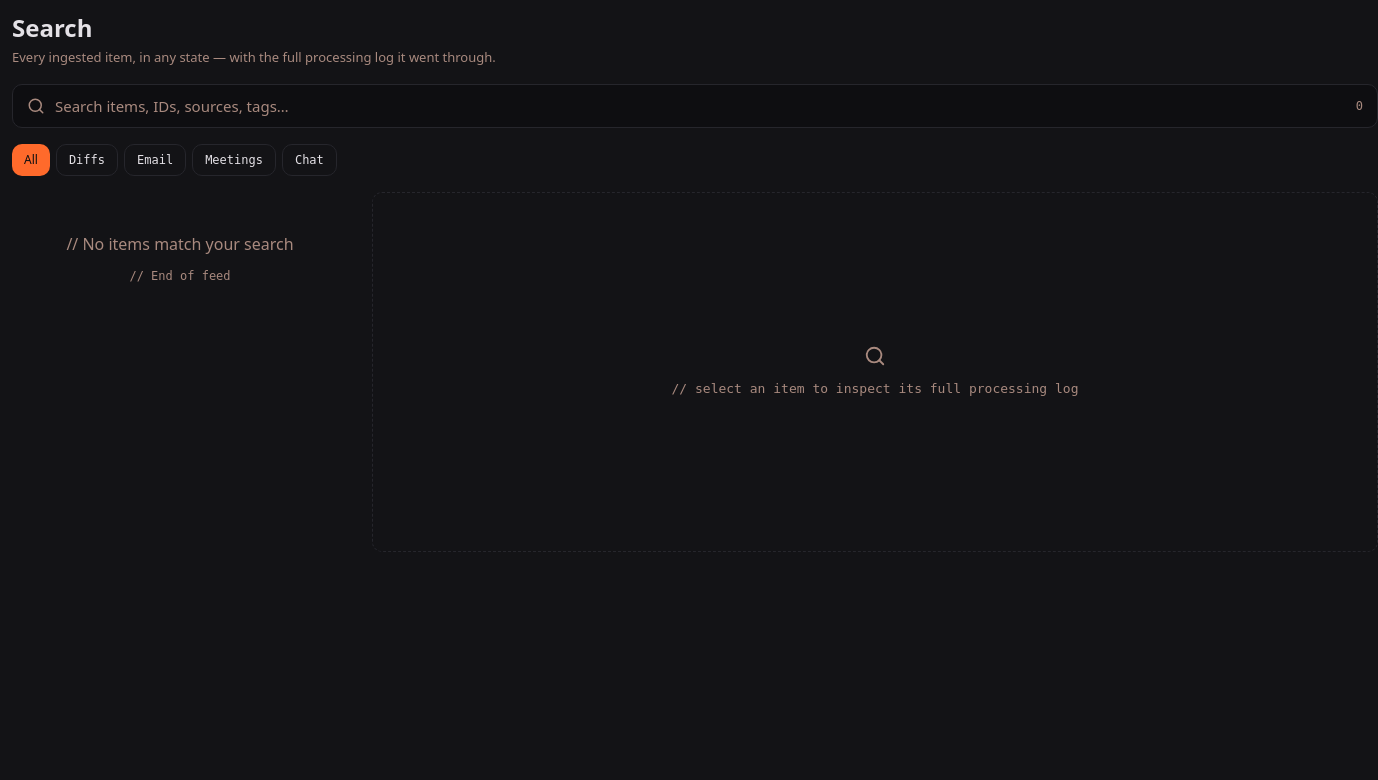
Scenario: Search page › clears the query with the clear button
The width and height of the screenshot is (1378, 780).
Type "x" into the field labelled "Search items" at (700, 106), box [55,94,1346,117]
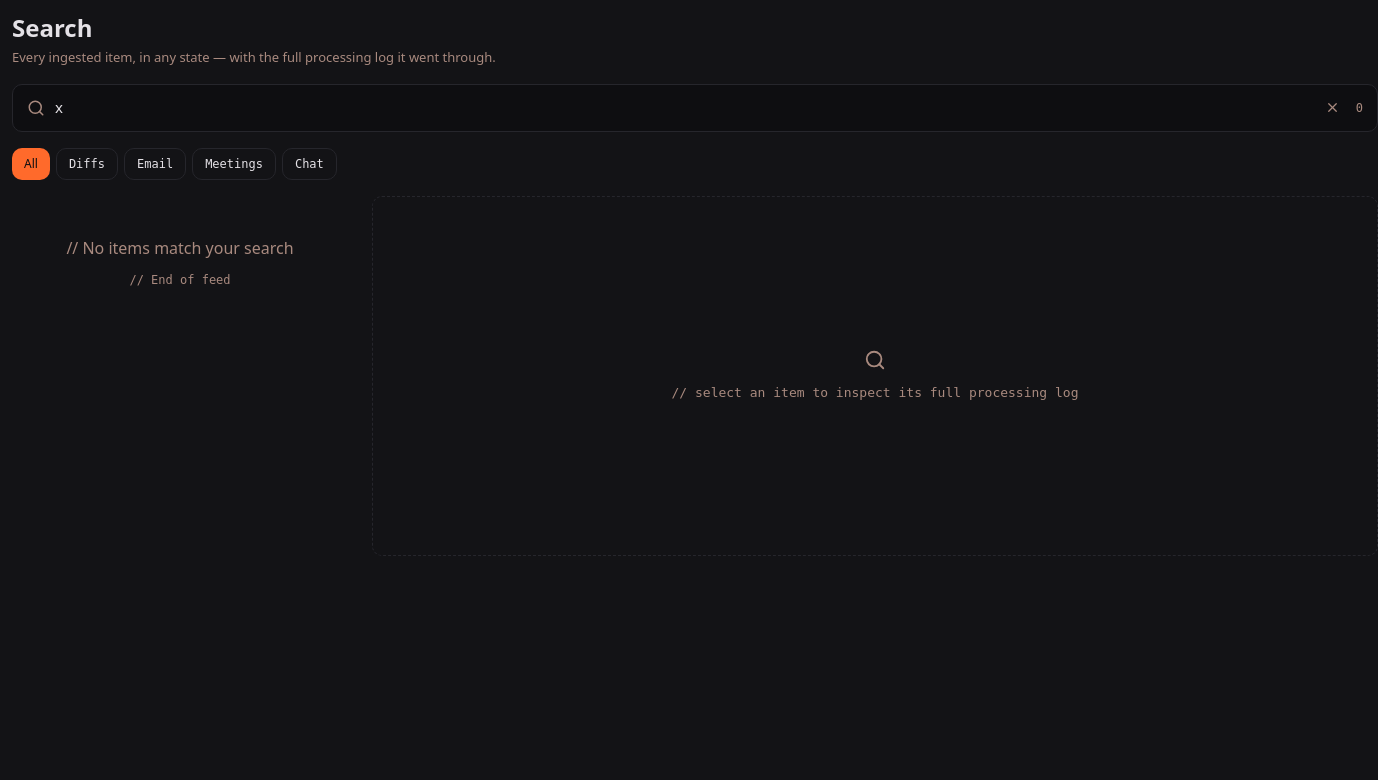
Click the button named "Clear" at (1333, 108), box [1320,94,1346,120]
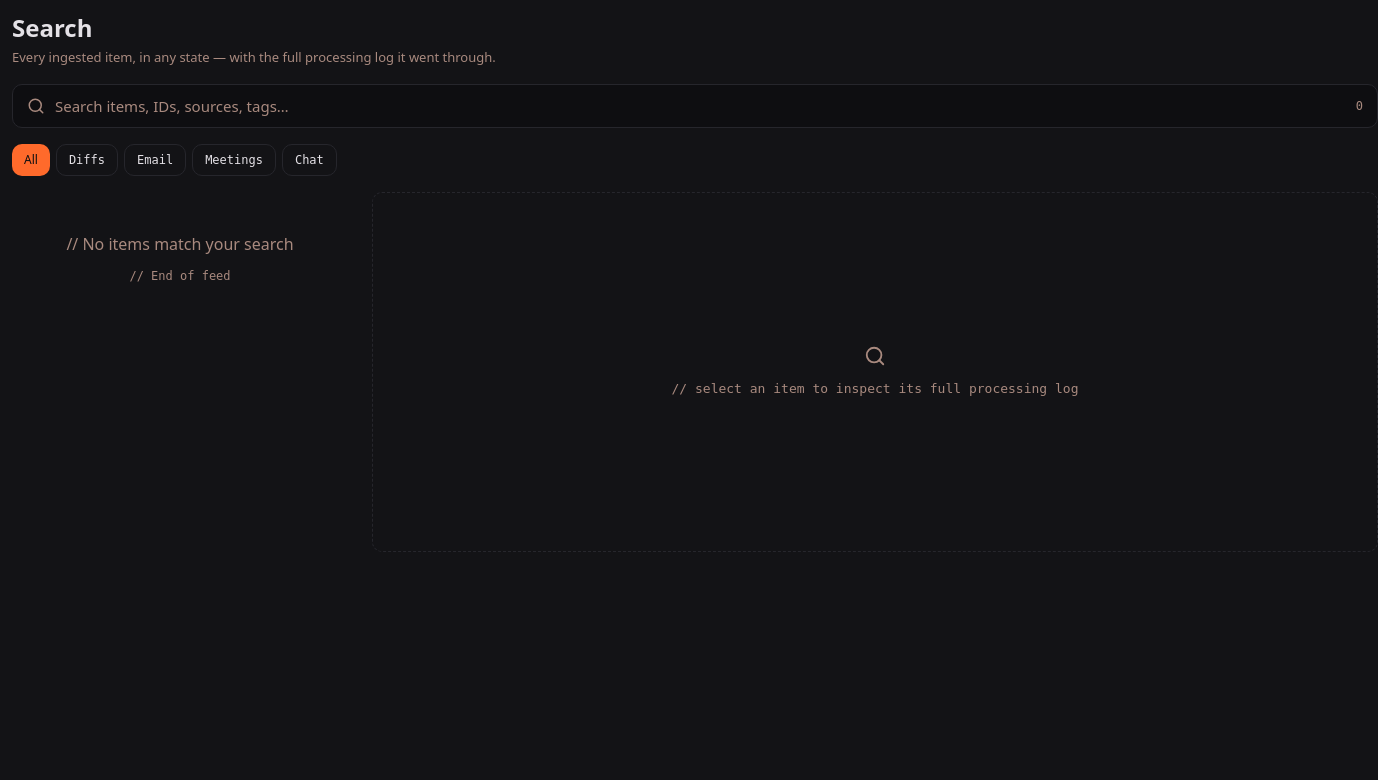
Now the field labelled "Search items" is empty, box [55,94,1346,117]
